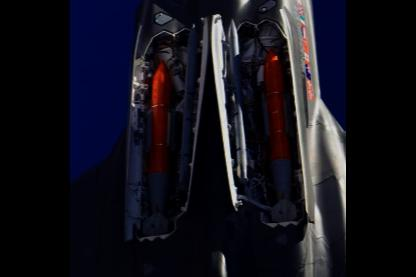F22: (70, 0, 346, 276)
